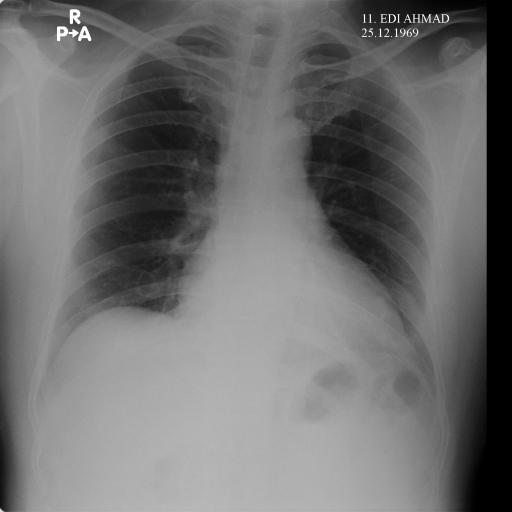kardiomegali: (38, 0, 444, 390)
